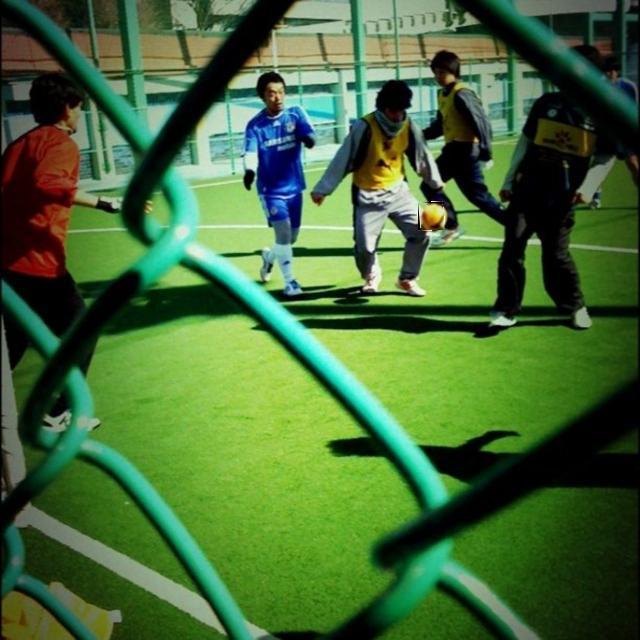Football: (418, 202, 444, 230)
